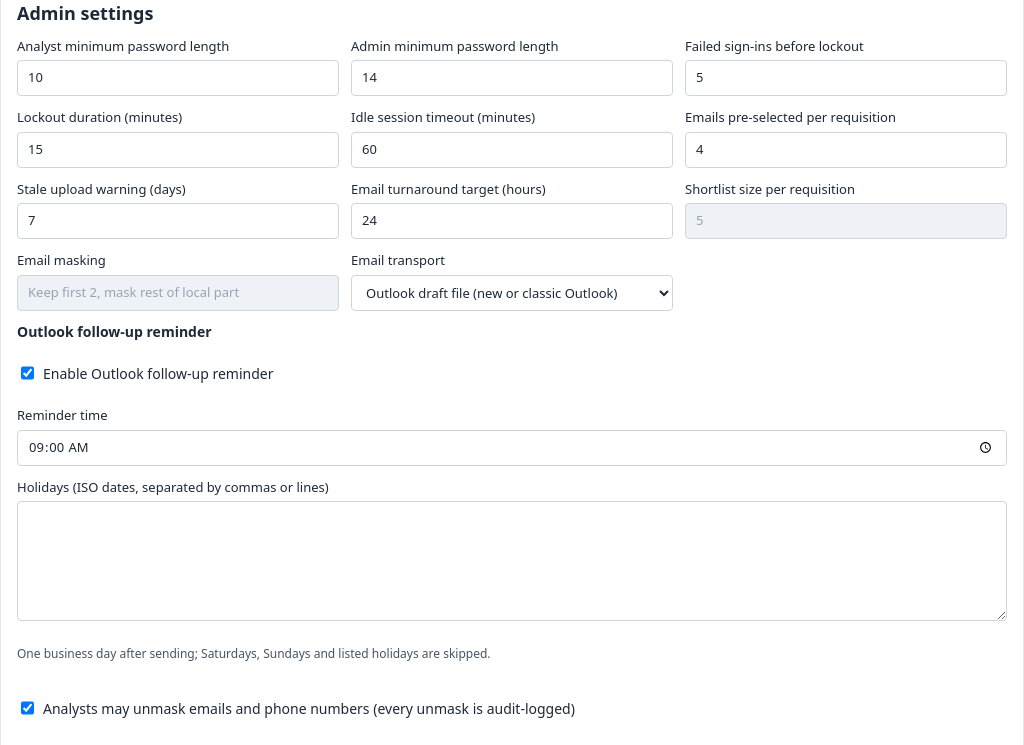
Test case: validates dates and displays backend validation errors
Type "2026-02-30" into the text box labelled "Holidays (ISO dates, separated by commas or lines)" at [512, 561], box [17,501,1007,621]
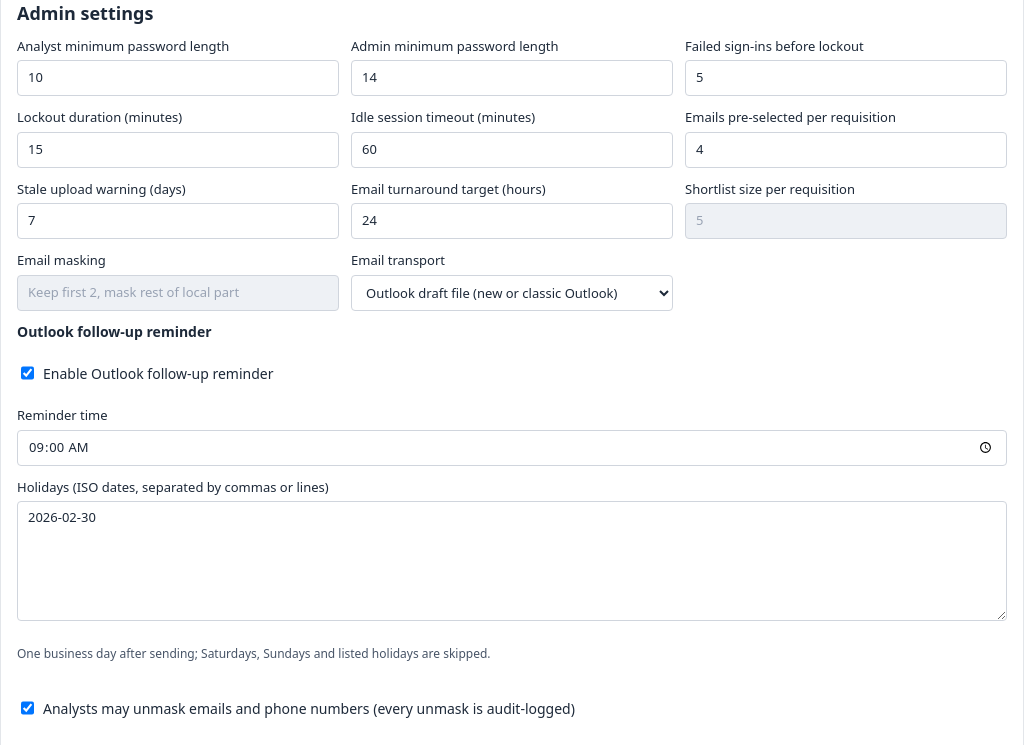
Clear the text box labelled "Holidays (ISO dates, separated by commas or lines)" at [512, 561], box [17,501,1007,621]
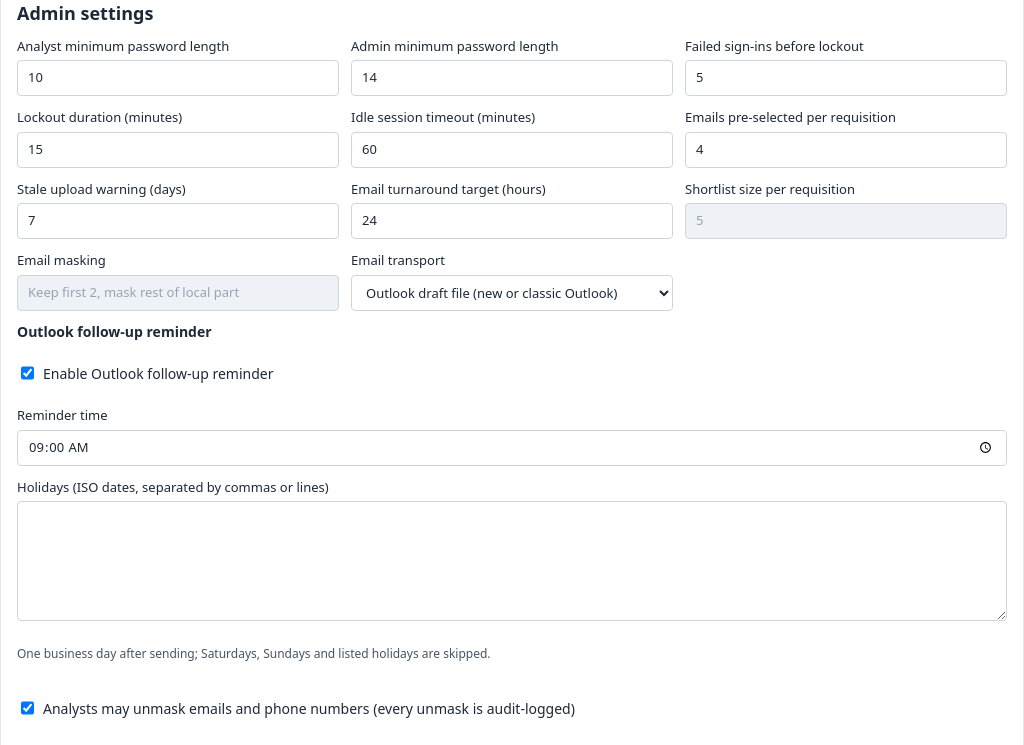
Clear the time field labelled "Reminder time" at [512, 448], box [17,430,1007,466]
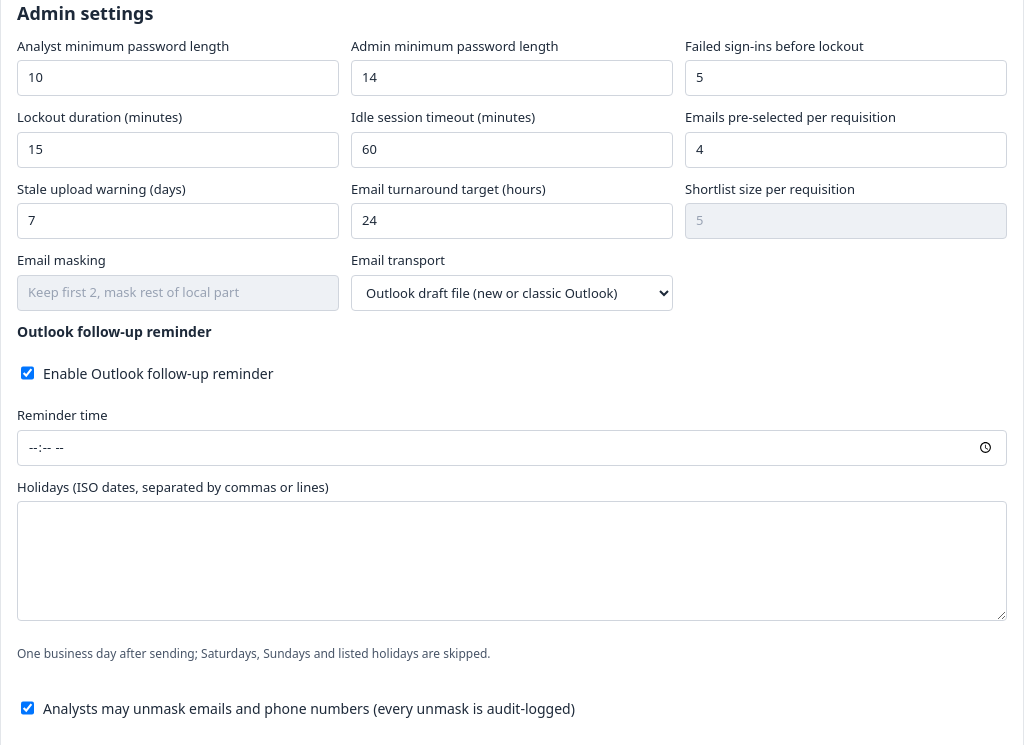
Type "09:00" into the time field labelled "Reminder time" at [512, 448], box [17,430,1007,466]
(page scrolled)
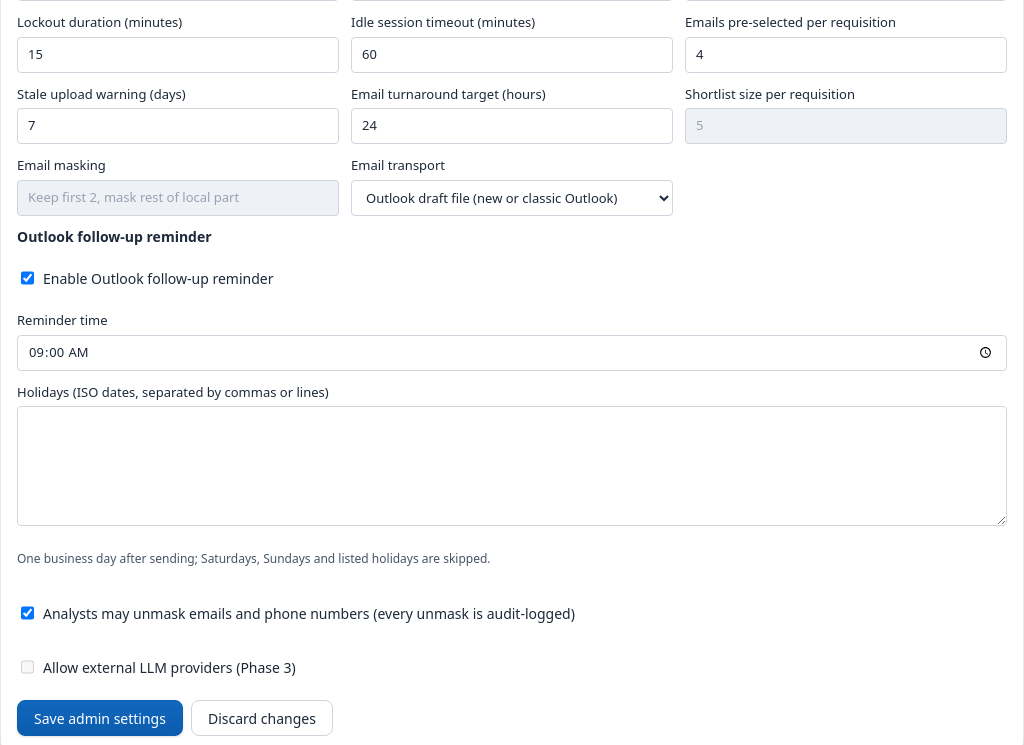
Click the button "Save admin settings" at [100, 718], box [17,700,183,736]
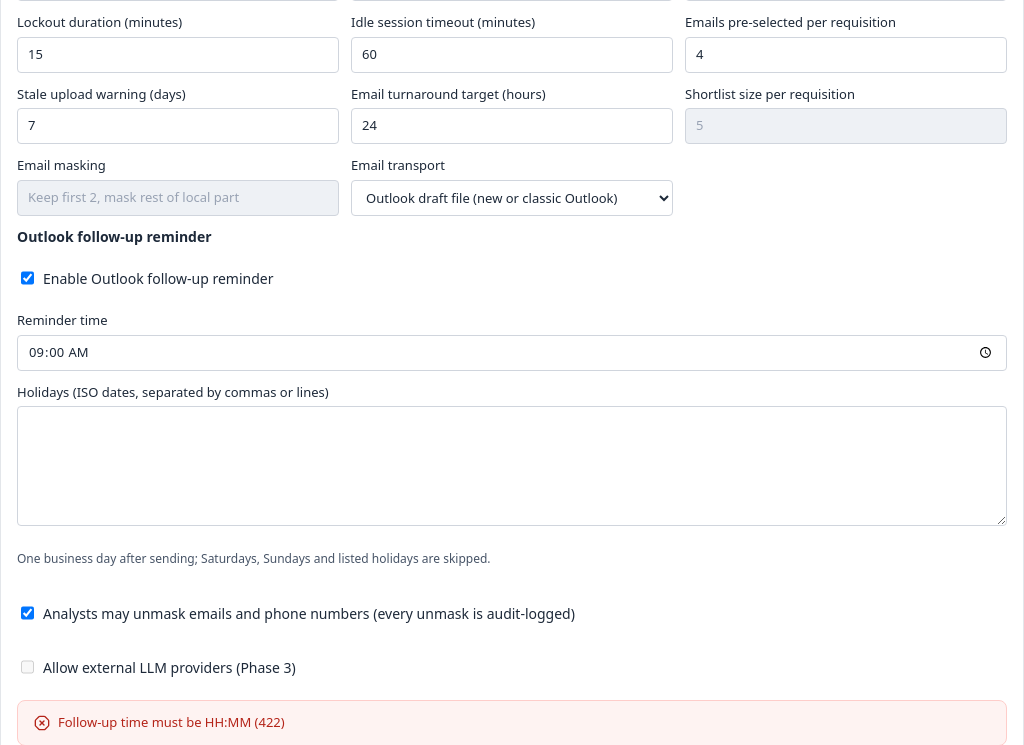
Result: the text "Follow-up time must be HH:MM (422)" is shown at [58,713,285,732]
